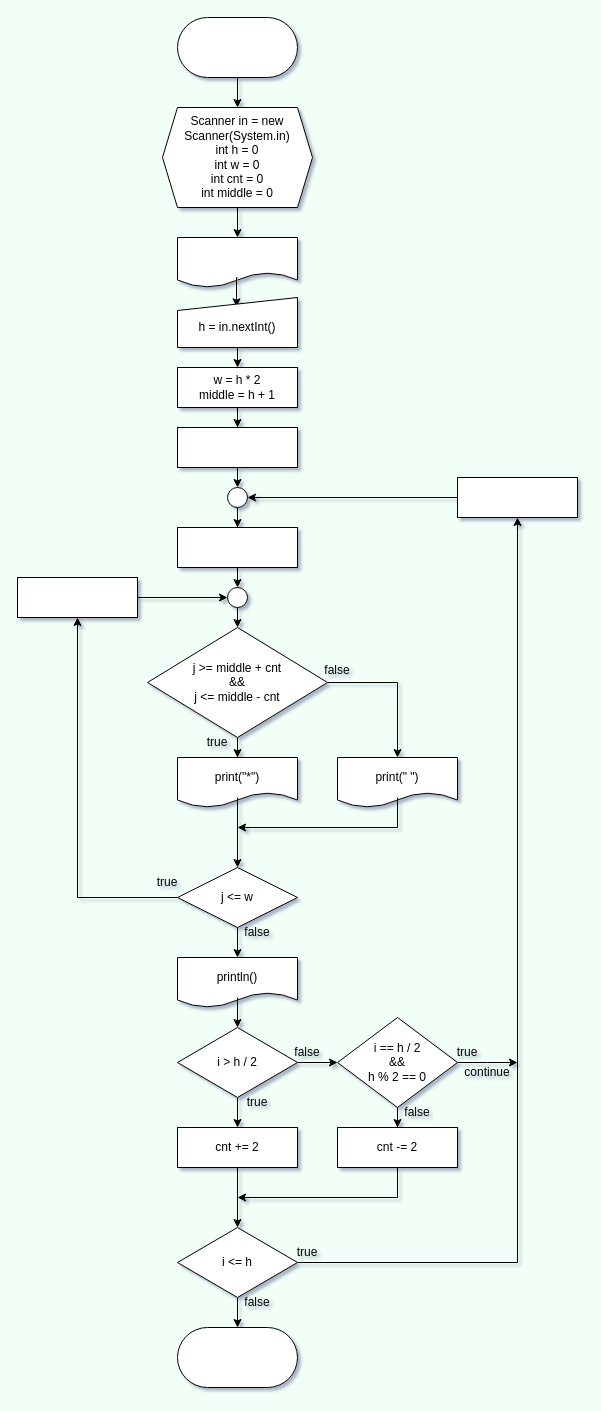
The diagram is 601 pixels wide and 1411 high, and some of its shapes have lost their labels. The centre of each missing label's shape, as x and y in pixels:
END: pixel 237 1357
i++: pixel 517 497
int i = 1: pixel 237 447
int j = 1: pixel 237 547
j++: pixel 77 597
print("height = "): pixel 237 262
START: pixel 237 47
